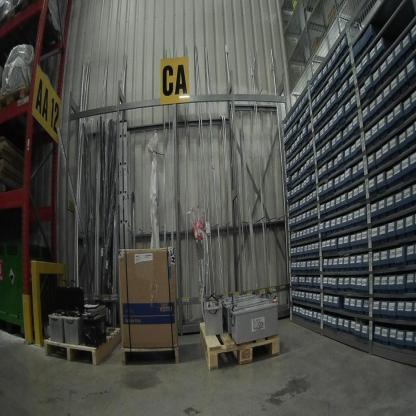pallets: (198, 323, 280, 370), (41, 326, 121, 367)
